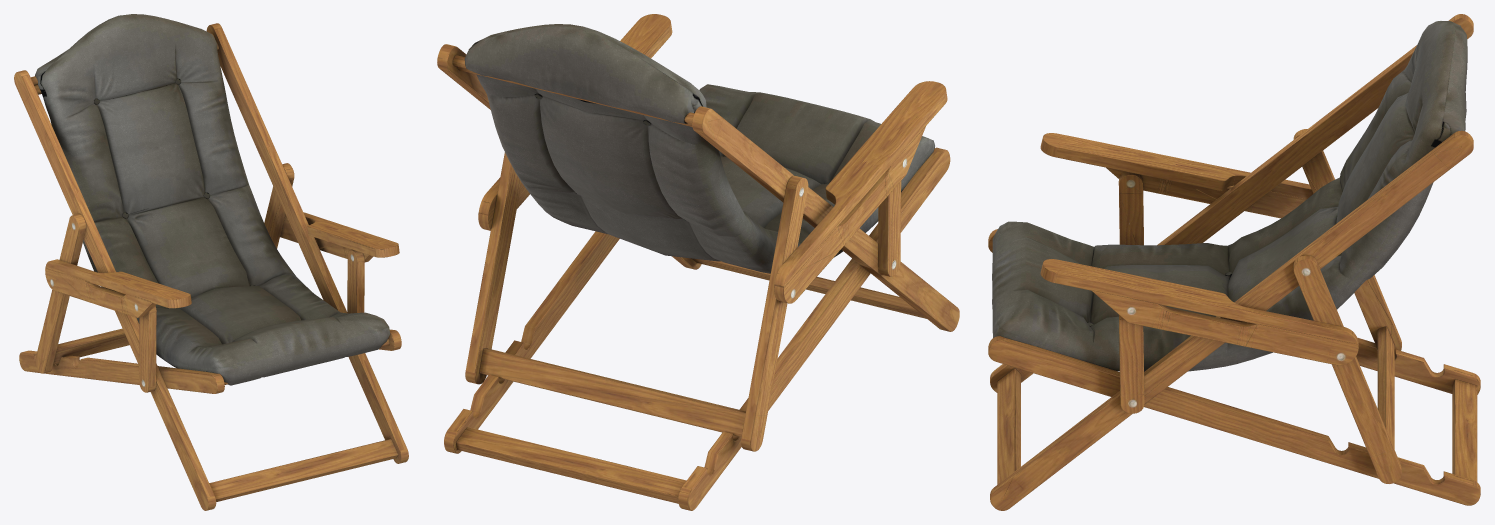
Rendered from SinteponС2.glb.
3 renders of one model, left to right at view 1: azimuth 30°, elevation 25°; view 2: azimuth 150°, elevation 25°; view 3: azimuth 270°, elevation 25°, orthographic. The views are drawn at different scales.
Parts seen in each view (by area): view 1: Sun_Lounger_v2_fabric_part, Sun_Lounger_v2_wood_part; view 2: Sun_Lounger_v2_wood_part, Sun_Lounger_v2_fabric_part; view 3: Sun_Lounger_v2_wood_part, Sun_Lounger_v2_fabric_part.
Boxes of the visible parts, x1,y1,x2,y2 form: Sun_Lounger_v2_fabric_part: (35,14,390,385); Sun_Lounger_v2_wood_part: (14,23,408,510); Sun_Lounger_v2_wood_part: (437,14,959,510); Sun_Lounger_v2_fabric_part: (464,24,934,273); Sun_Lounger_v2_wood_part: (988,14,1480,510); Sun_Lounger_v2_fabric_part: (992,21,1467,371).
Size of what is drawn, in the model's own units: 0.759 by 1.06 by 1.13.
Materials: 2 (2 with a texture image).
